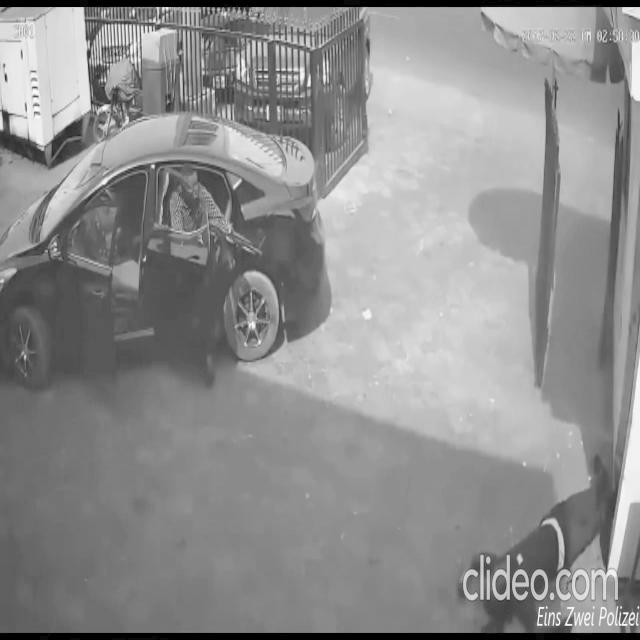gun: (207, 212, 265, 280)
person: (457, 448, 616, 628)
person with a gun: (168, 165, 266, 392)
